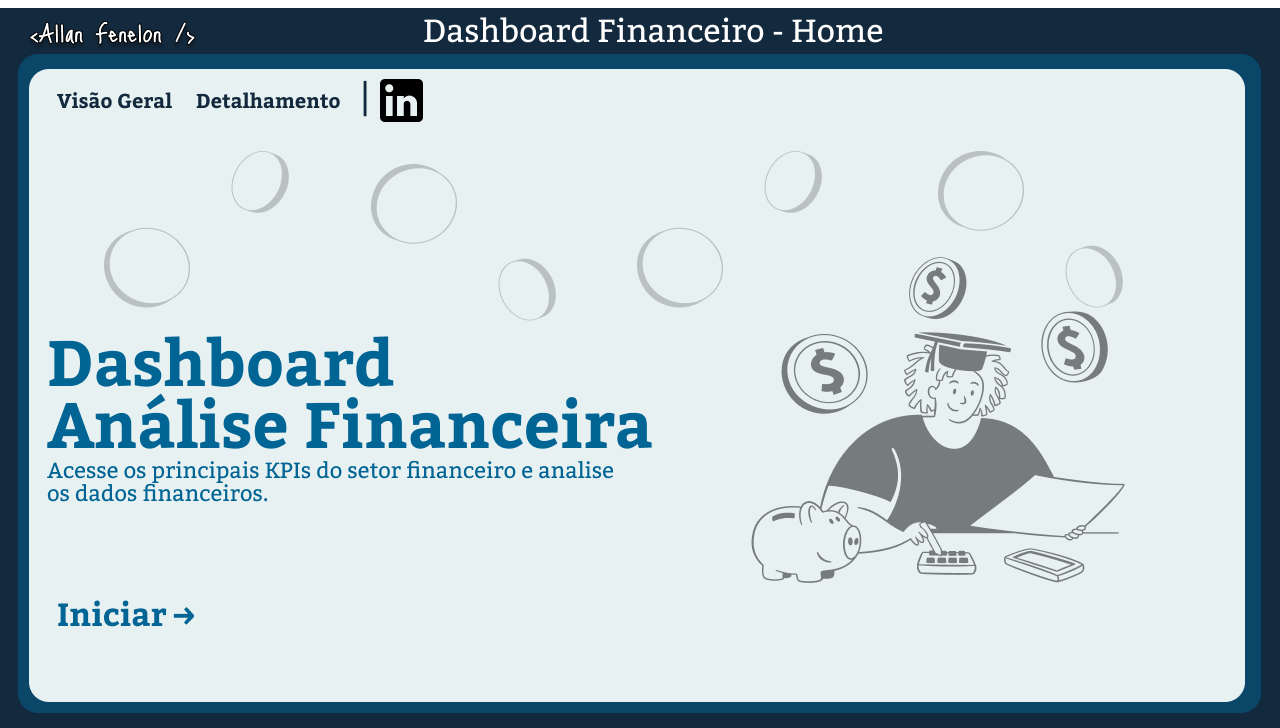

This screenshot's page, from the dashboard's own definition file:
{"tool":"powerbi","page":{"name":"home","canvas":[1280,720],"ordinal":0},"visuals":[{"type":"actionButton","box":[51.7,78.3,125,28.3],"z":0},{"type":"actionButton","box":[190,78.5,157.7,28.5],"z":1000},{"type":"actionButton","box":[374.6,67.7,53.1,55.4],"z":2000},{"type":"actionButton","box":[51.5,592.3,147.7,36.9],"z":3000}]}

Visuals, with their boxes in screenshot pixels (x1, y1, x2, y2), scaled from the page's 1280x720 canvas onto the 1280x728 screenshot:
actionButton: (52, 79, 177, 108)
actionButton: (190, 79, 348, 108)
actionButton: (375, 68, 428, 124)
actionButton: (52, 599, 199, 636)
